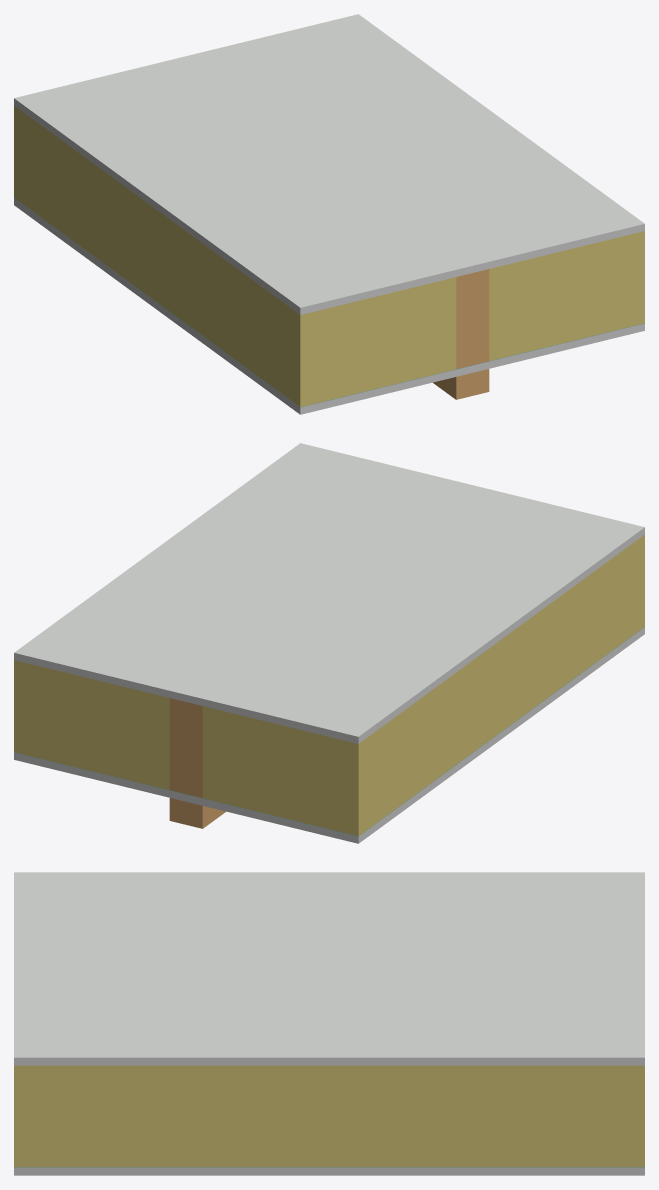
The model's file is panel_1_3.obj.
3 renders of one model, top to bottom at view 1: azimuth 30°, elevation 25°; view 2: azimuth 150°, elevation 25°; view 3: azimuth 270°, elevation 25°, orthographic. The views are drawn at different scales.
Parts seen in each view (by area): view 1: L06_solid, L05_infill_left, L05_infill_right, L02_solid, L04_vertical_center, L01_vertical_center, L03_solid; view 2: L06_solid, L05_infill_left, L05_infill_right, L02_solid, L04_vertical_center, L01_vertical_center, L03_solid; view 3: L06_solid, L05_infill_right, L02_solid, L03_solid.
Boxes of the visible parts, <box> form: L06_solid: <box>14,14,644,314</box>; L05_infill_left: <box>14,105,456,407</box>; L05_infill_right: <box>489,231,644,361</box>; L02_solid: <box>14,198,644,414</box>; L04_vertical_center: <box>456,269,489,369</box>; L01_vertical_center: <box>433,369,489,399</box>; L03_solid: <box>14,198,644,407</box>; L06_solid: <box>14,443,644,743</box>; L05_infill_left: <box>202,534,644,836</box>; L05_infill_right: <box>14,660,169,790</box>; L02_solid: <box>14,627,644,843</box>; L04_vertical_center: <box>169,698,202,798</box>; L01_vertical_center: <box>169,798,225,828</box>; L03_solid: <box>14,627,644,836</box>; L06_solid: <box>14,872,644,1065</box>; L05_infill_right: <box>14,1065,644,1167</box>; L02_solid: <box>14,1167,644,1175</box>; L03_solid: <box>14,1167,644,1167</box>.
Size of the model in its own units: 625 by 226 by 900.
